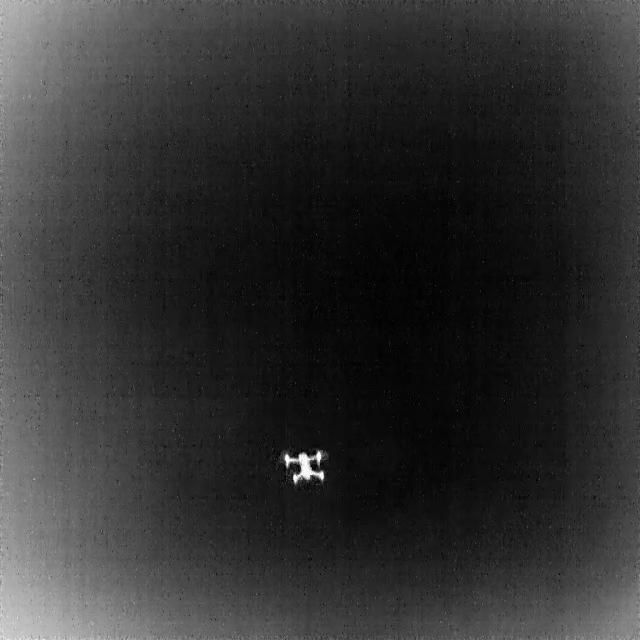drone: (282, 450, 331, 488)
